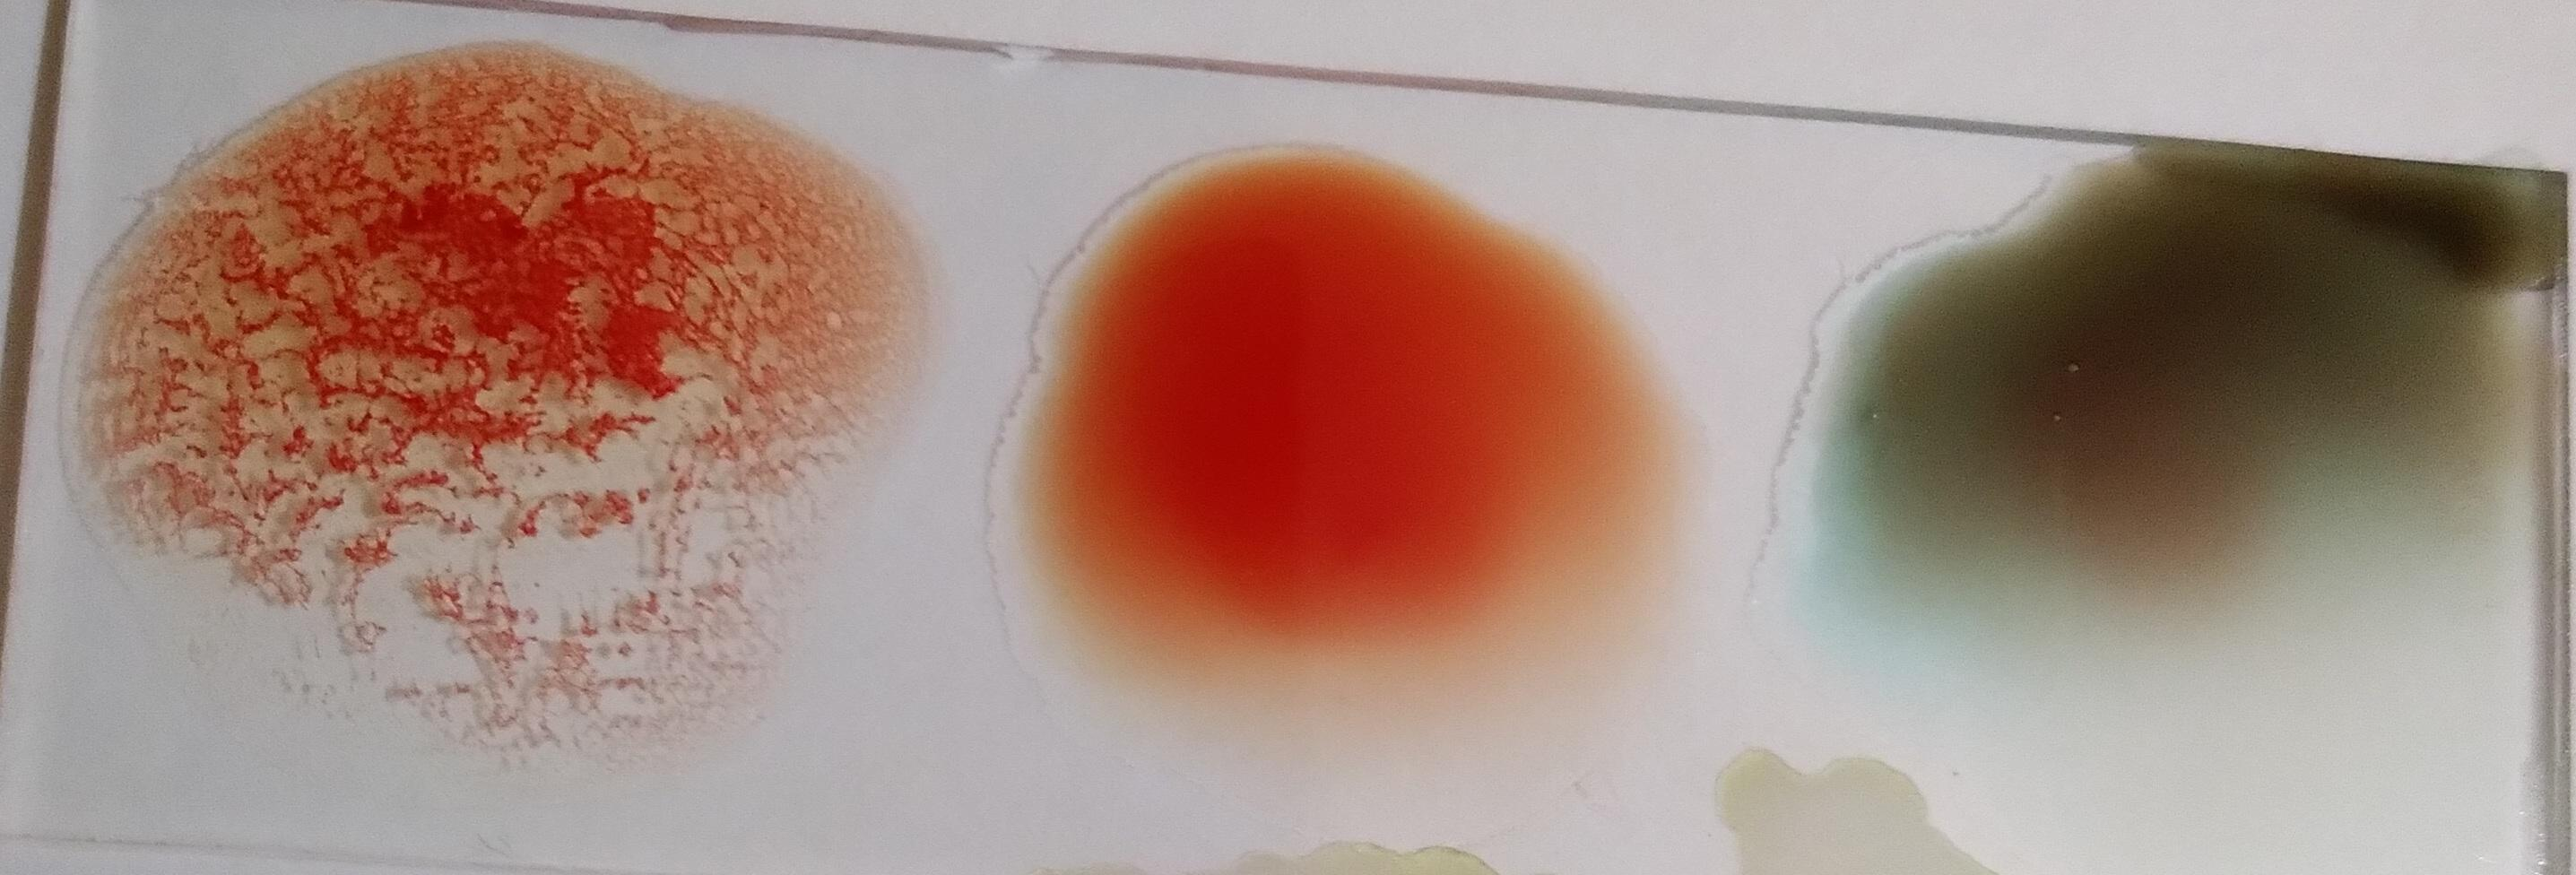D: (87, 48, 876, 740)
